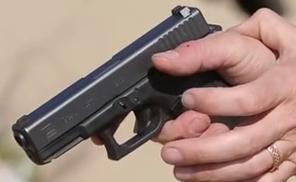gun: (1, 1, 296, 182)
